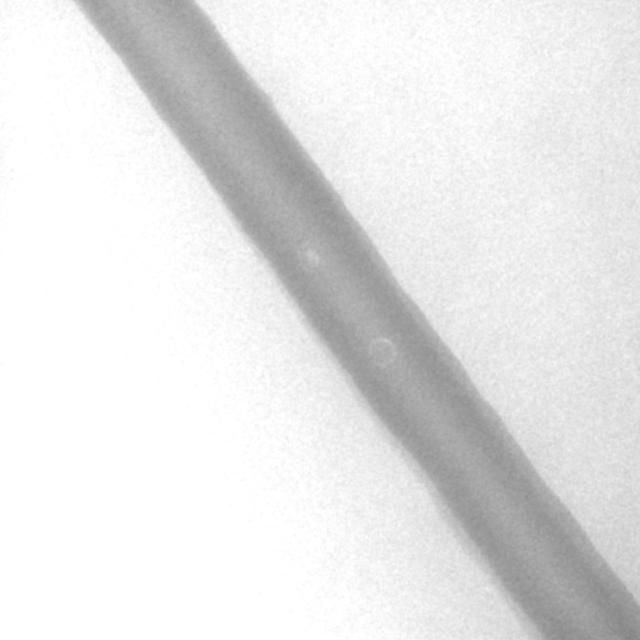hollow bead: (367, 337, 397, 372)
